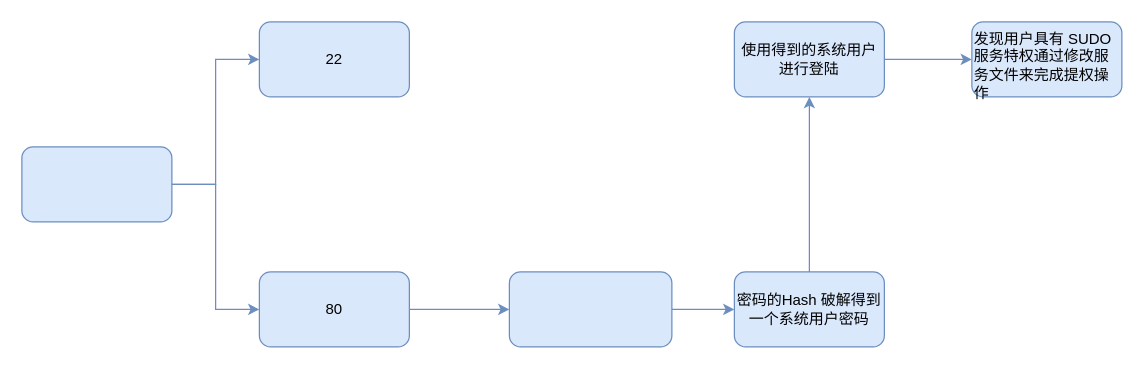
Image size: 1144x369. Some labels were removed from this diagram. The shapes that lost their labels are listed below. From the top down, each one's box as (x1, y1, x2, y2) in pixels, then its label:
(21, 146, 172, 222): nmap 端口扫描
(508, 271, 672, 347): 进行信息收集, 发现其存在 SQl 注入漏洞, 进行拖库
